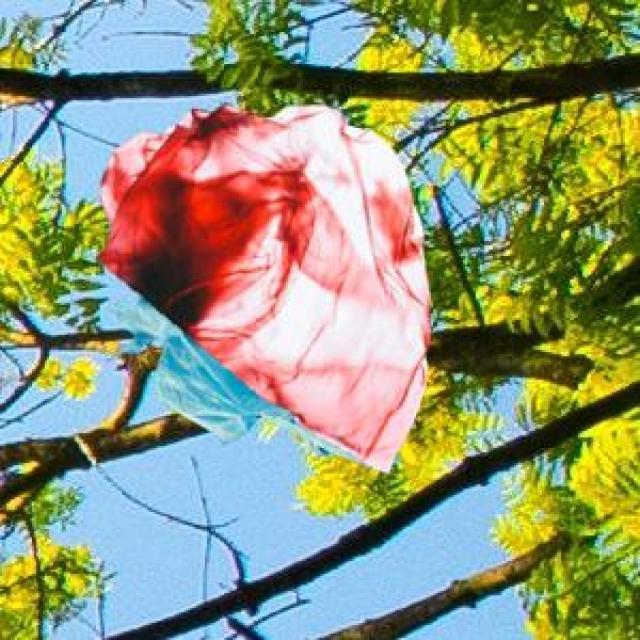waste: (100, 106, 430, 469), (50, 205, 105, 327)
